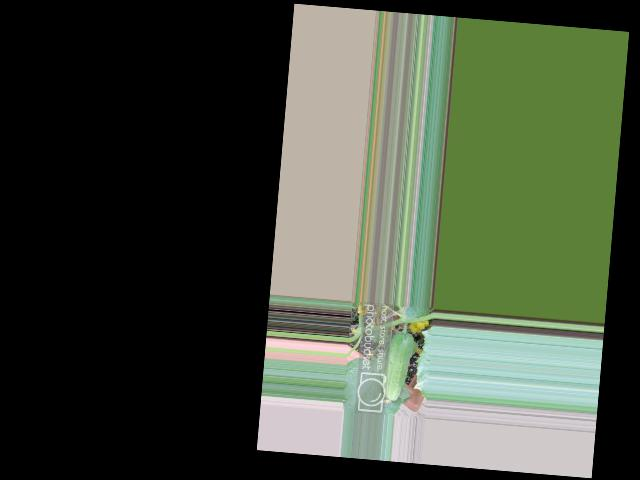cucumber: (380, 332, 414, 402)
